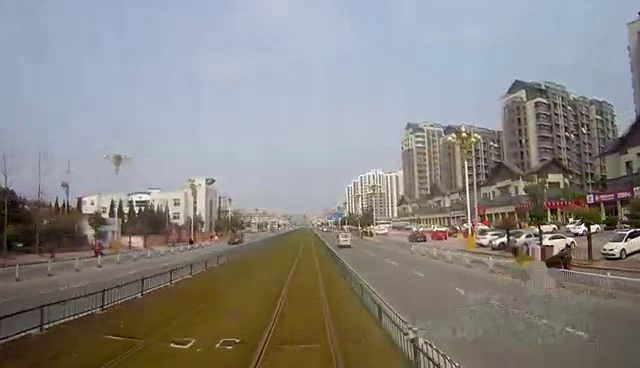car: (225, 231, 251, 248), (336, 232, 353, 248)
